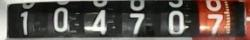digits: (122, 0, 153, 38), (161, 0, 190, 40), (82, 0, 112, 38), (200, 0, 226, 37), (53, 7, 68, 31), (19, 11, 28, 34)
